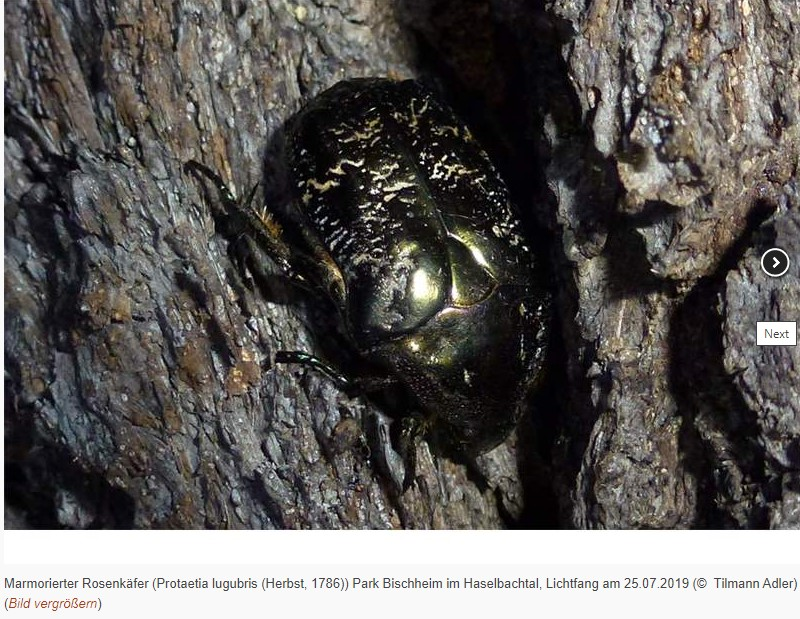Protaetia_lugubris: (178, 70, 555, 503)
